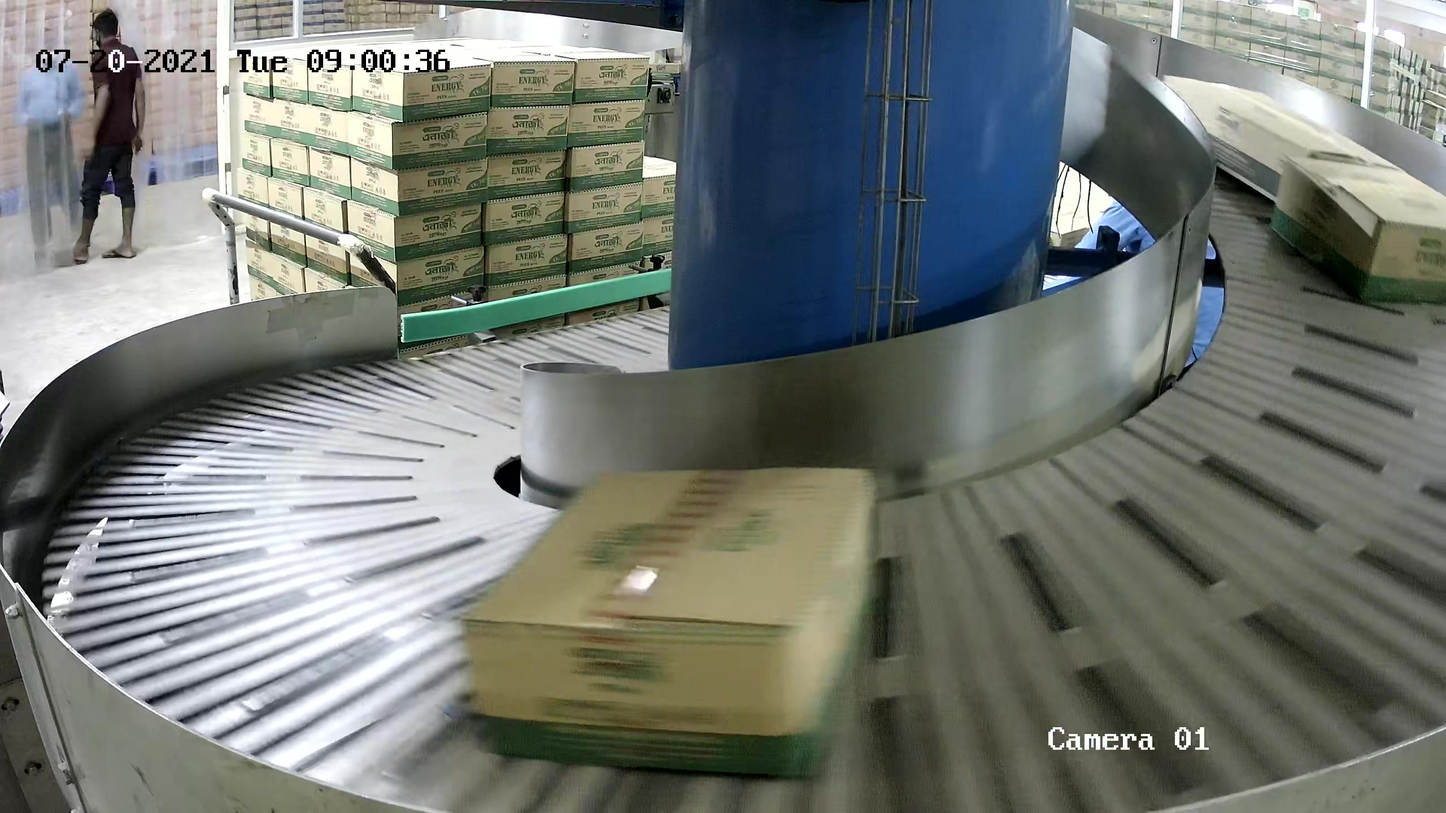Box: (460, 464, 880, 779), (1160, 74, 1408, 205), (1269, 155, 1446, 303)
